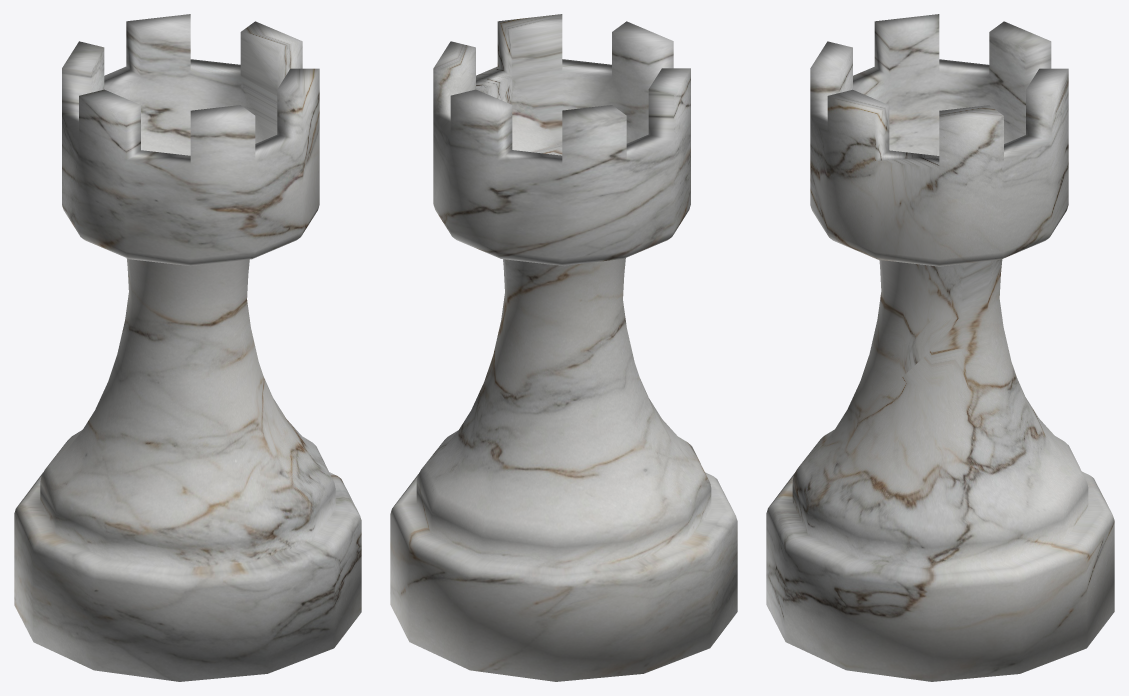
Rendered from TorreBlanco.glb.
3 renders of one model, left to right at view 1: azimuth 30°, elevation 25°; view 2: azimuth 150°, elevation 25°; view 3: azimuth 270°, elevation 25°, orthographic.
Visible parts, largest first — view 1: Torre; view 2: Torre; view 3: Torre.
Boxes of the visible parts, x1,y1,x2,y2 form: Torre: (14,14,361,681); Torre: (390,14,737,681); Torre: (766,14,1114,681).
Bounding box in the file's own units: 0.7033 × 1.21 × 0.7033.
Materials: 1 (1 with a texture image).
